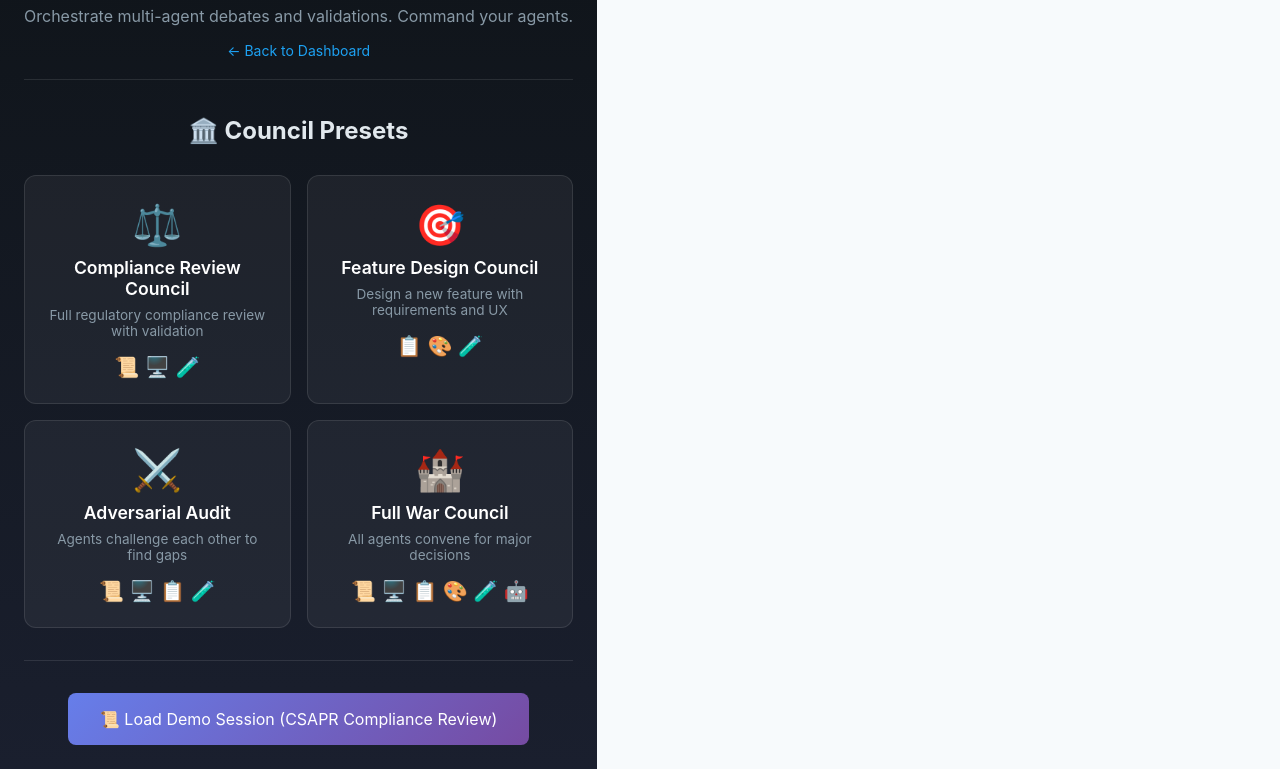
Test: Council › shows action items panel after loading session
(page scrolled)
Click the button "📜 Load Demo Session (CSAPR Compliance Review)" at (299, 719), box [68,693,529,745]
(page scrolled)
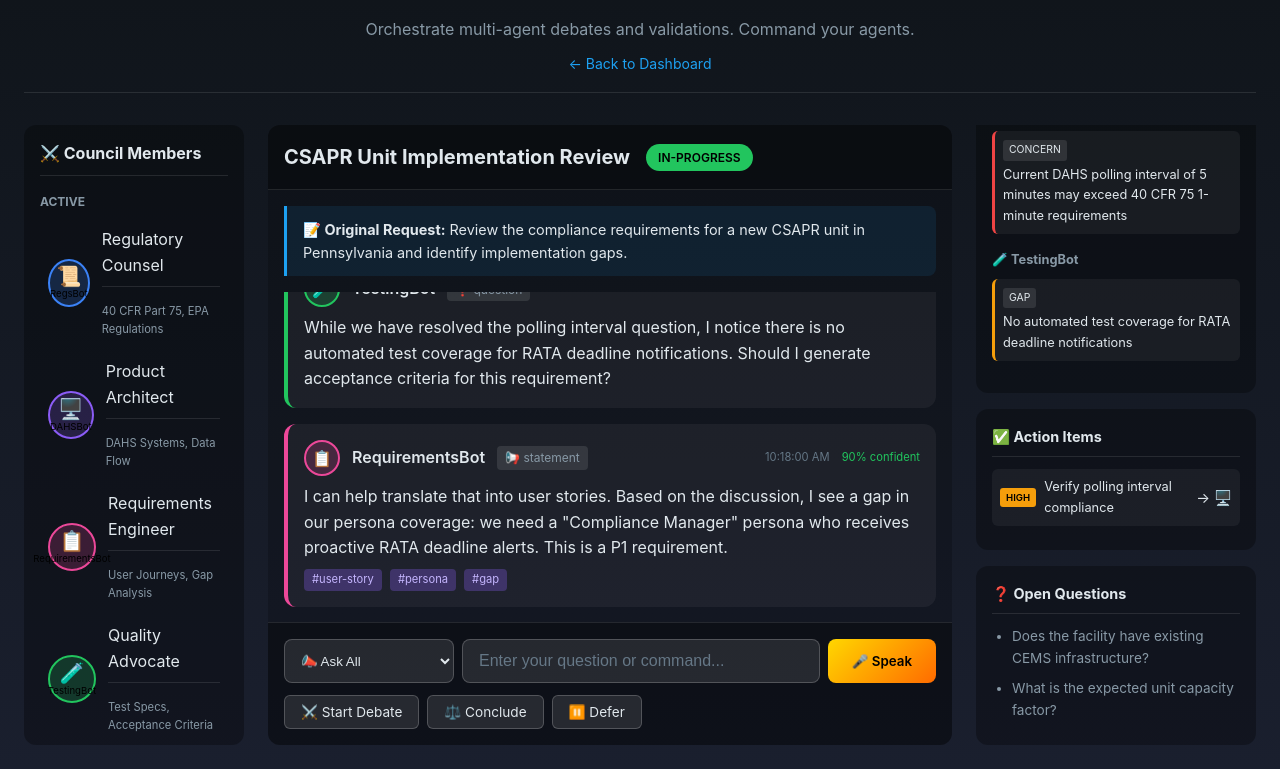
Check: the heading "✅ Action Items" is shown, box [992,425,1240,457]
Check: the text "Verify polling interval compliance" is shown, box [1044,477,1188,518]
